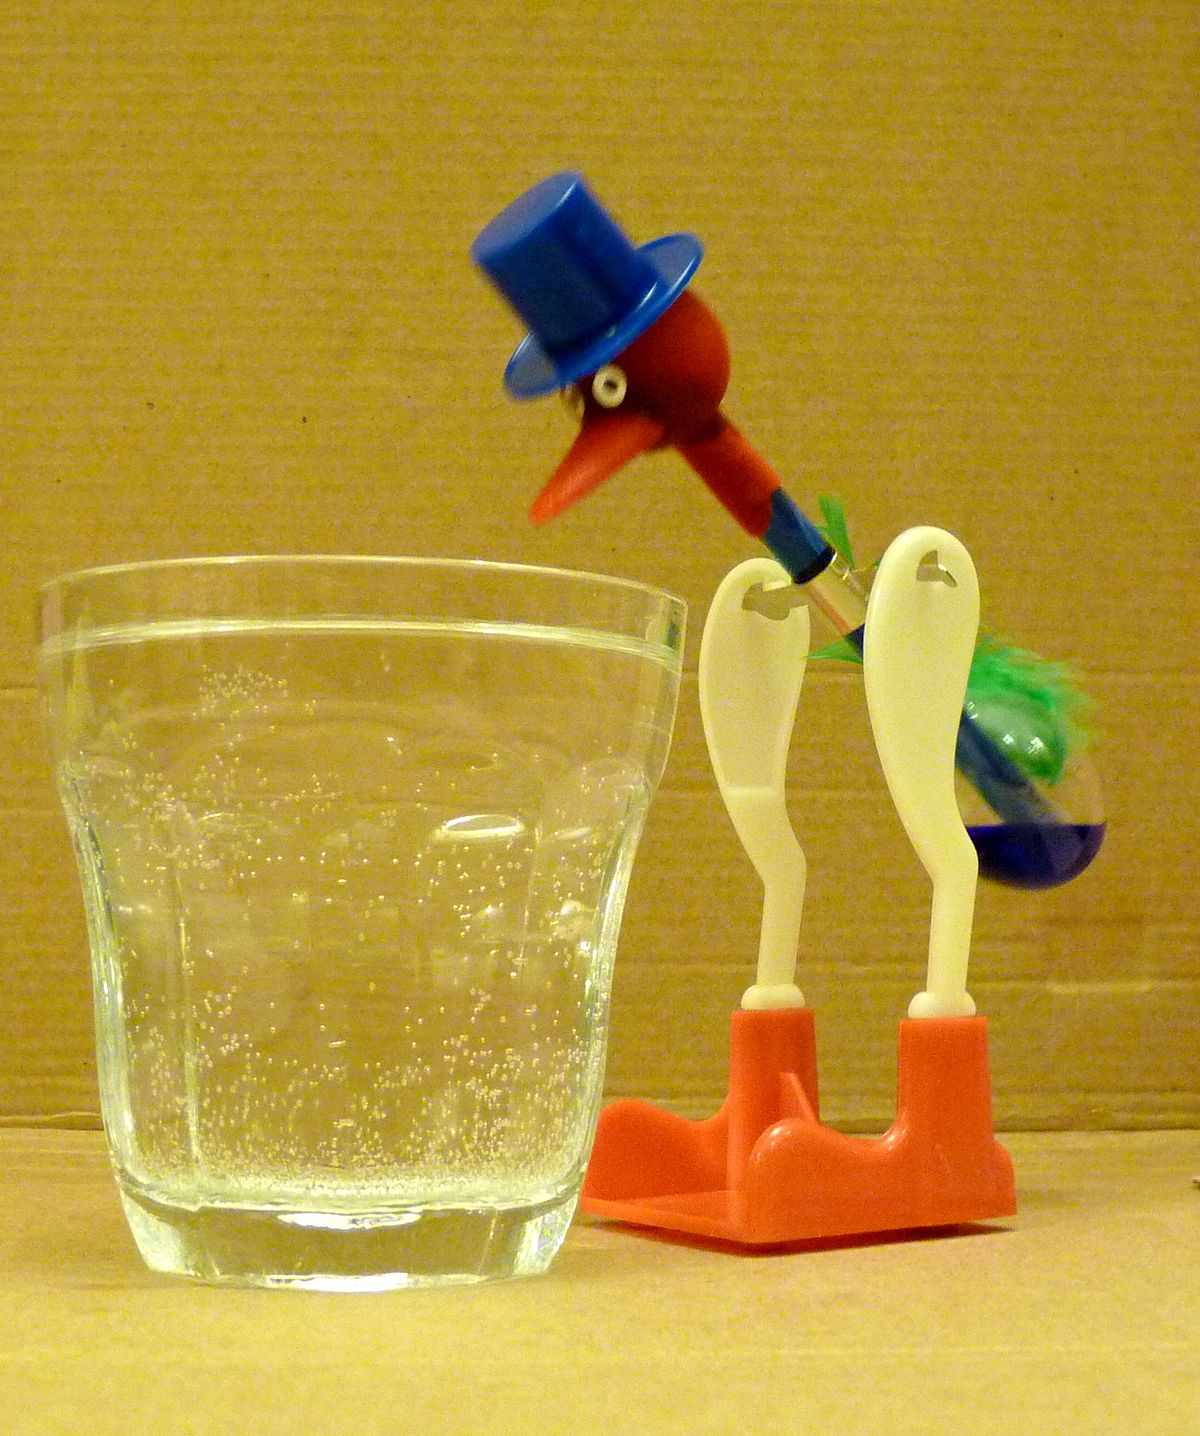glass of water: (38, 537, 679, 1290)
